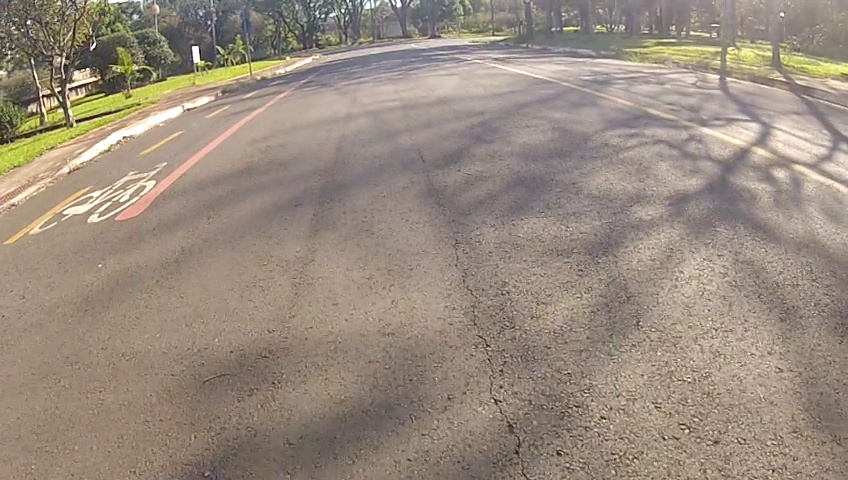TLT: (409, 146, 555, 480)
